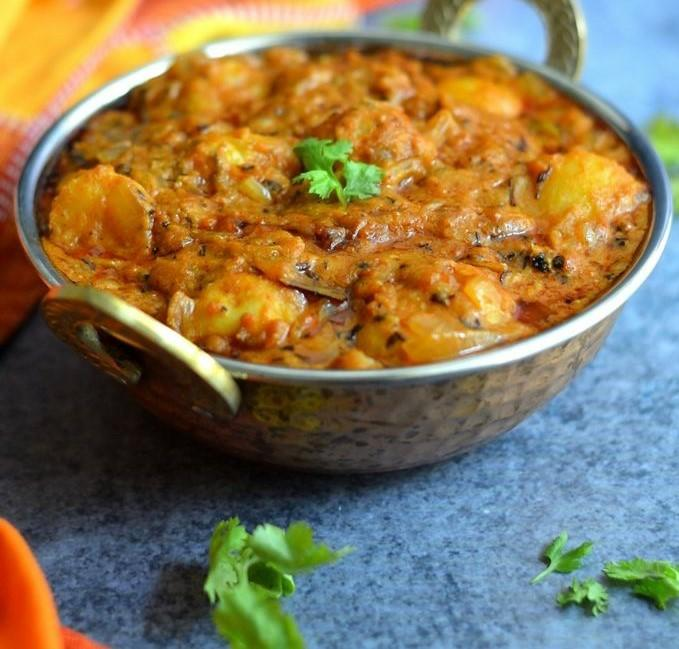DumAloo: (42, 44, 653, 369)
